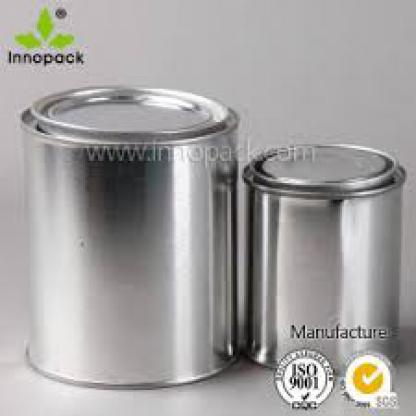METAL: (19, 85, 238, 386), (240, 140, 405, 376)
